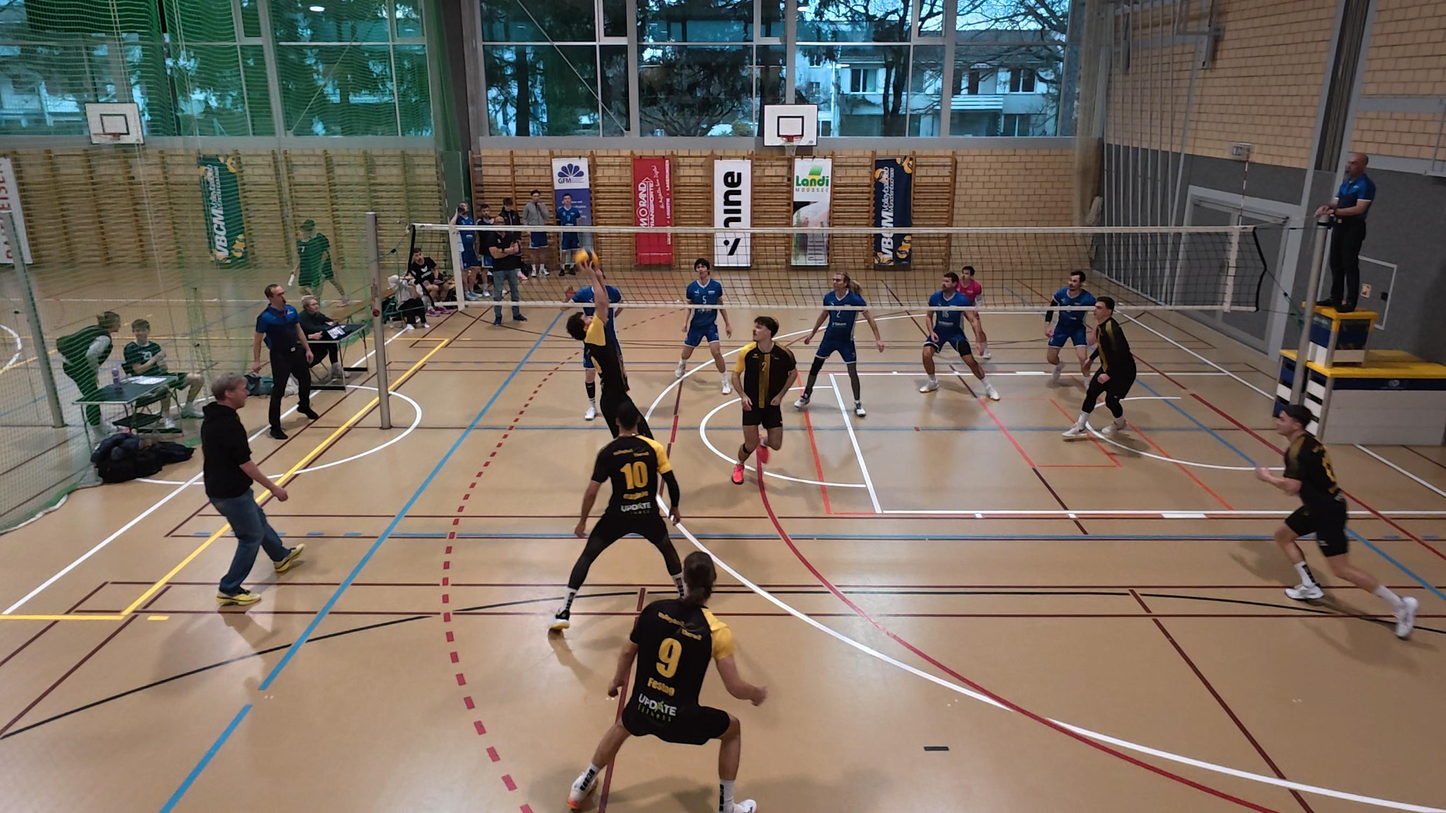Player: (568, 552, 768, 812), (1263, 401, 1420, 639), (550, 403, 684, 634), (795, 273, 882, 417), (729, 316, 800, 484), (1062, 296, 1137, 440), (919, 272, 998, 401), (675, 259, 732, 387), (1043, 270, 1095, 389), (955, 265, 990, 362)
Set: (569, 267, 625, 420)
ball: (570, 248, 594, 268)
